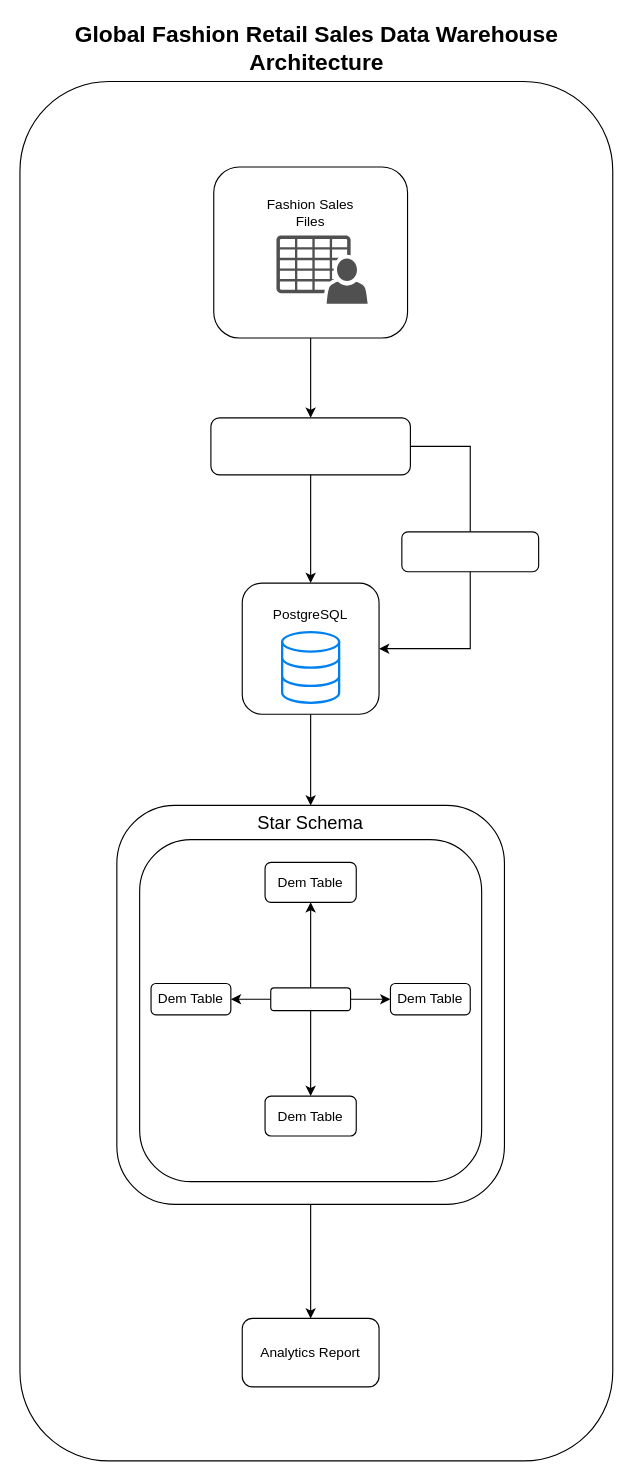
Image size: 633x1481. Some labels were removed from this diagram. The shapes that lost their labels are listed below. From the top down, each one's box as (x1, y1, x2, y2) in pixels, then its label:
(210, 417, 410, 475): Python Scripts ETL
(401, 531, 539, 572): Data Validation
(270, 987, 351, 1011): Fact Table
